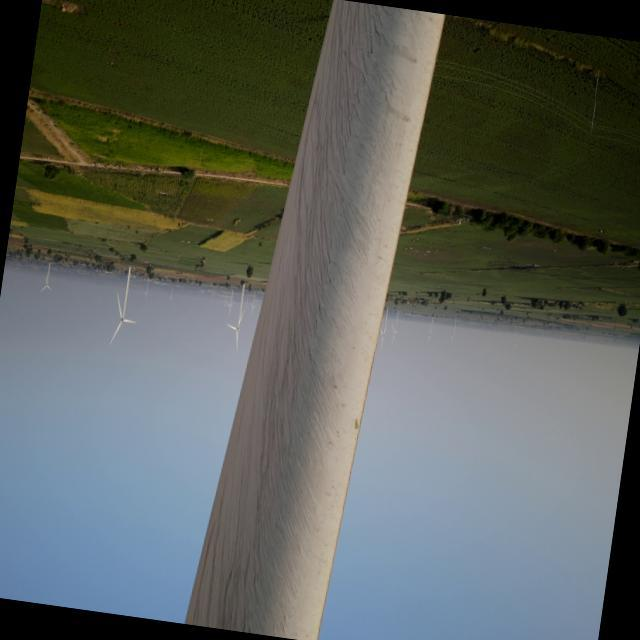Dirt: (187, 7, 430, 640)
